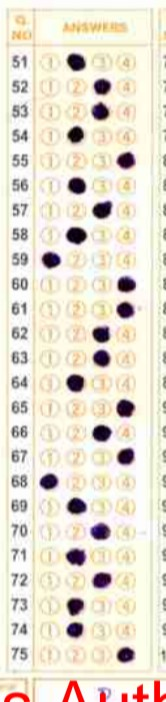filled circles: (66, 227, 86, 244), (66, 548, 85, 565), (91, 522, 110, 539), (93, 201, 112, 218), (116, 399, 134, 416), (67, 53, 85, 70), (42, 251, 60, 268), (67, 497, 86, 513), (66, 374, 83, 391), (93, 349, 110, 366), (117, 301, 134, 318), (93, 425, 111, 441), (117, 152, 135, 168), (118, 276, 135, 292), (92, 102, 108, 119), (67, 125, 83, 142), (40, 473, 57, 489), (94, 78, 111, 94), (67, 598, 83, 615), (68, 177, 85, 193), (117, 448, 134, 464), (93, 572, 111, 587), (93, 326, 109, 342), (117, 647, 134, 662), (67, 622, 82, 637)
